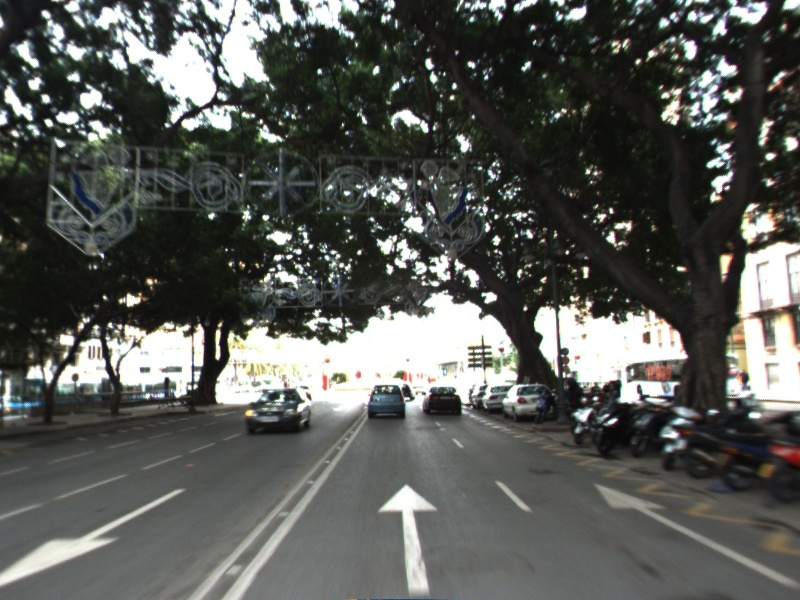STRAIGHT: (589, 478, 800, 590), (373, 479, 442, 600)
